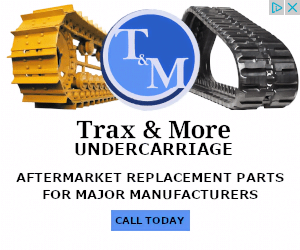fake_button: (102, 206, 194, 238)
